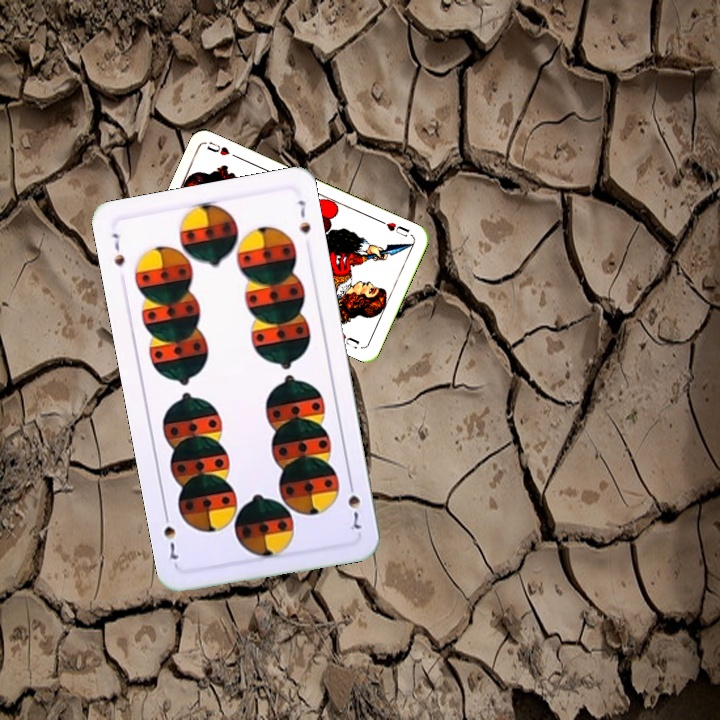HU: (376, 216, 412, 240)
S7: (344, 476, 363, 535), (107, 229, 128, 269)
